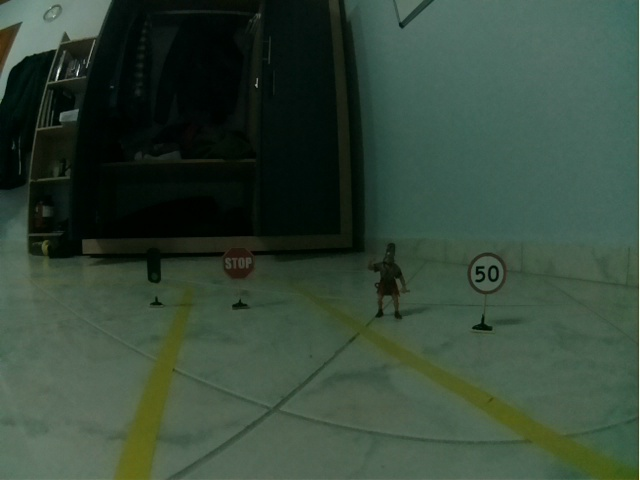Green Traffic Light: (147, 247, 162, 284)
Person: (368, 243, 411, 320)
Speed Limit 50: (467, 252, 507, 295)
Stop: (223, 248, 255, 280)
